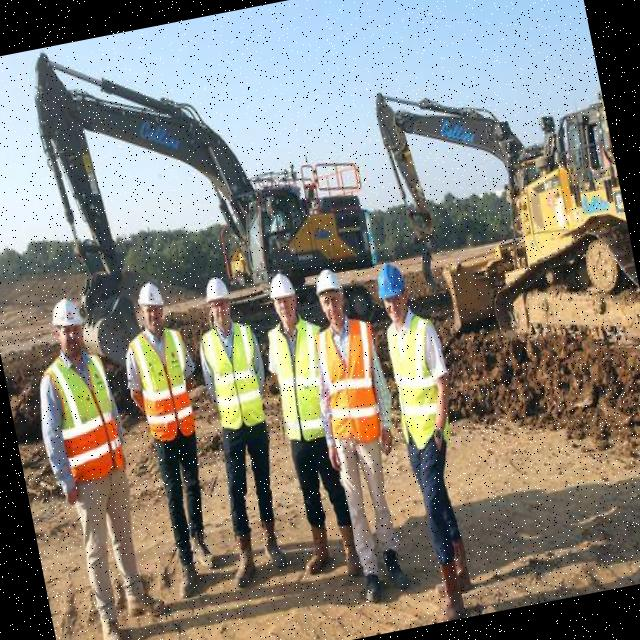Bulldozer: (410, 91, 640, 381)
Excavator: (14, 0, 411, 411)
